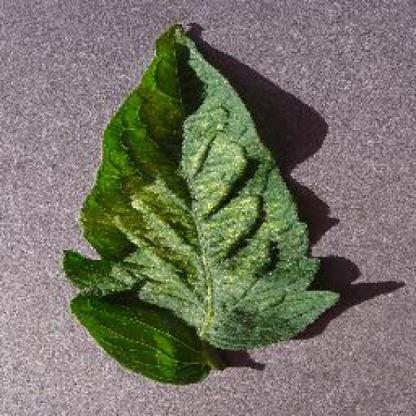Tomato_Spider_Mites: (66, 23, 338, 381)
